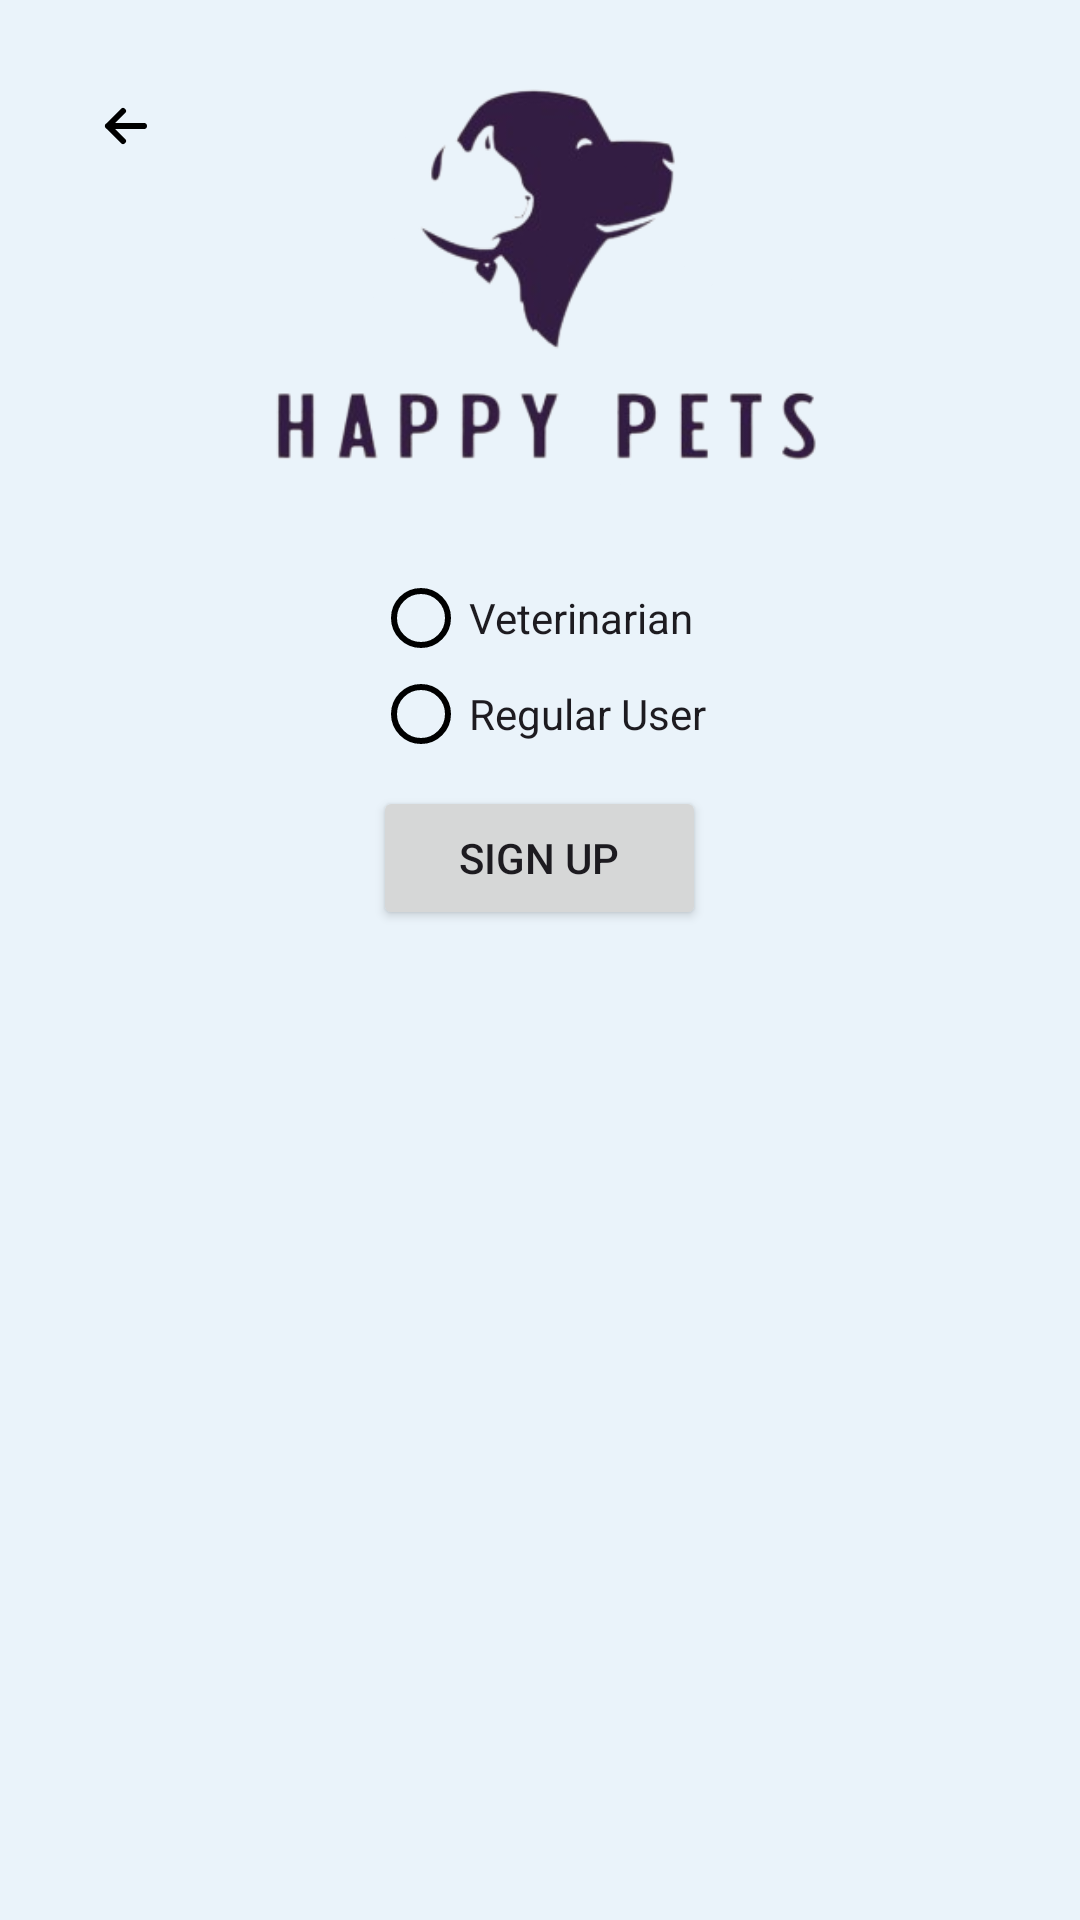

Screen size 1080px×1920px. Icon name, then its center in pixels as point (x, y):
Back: point (126, 126)
